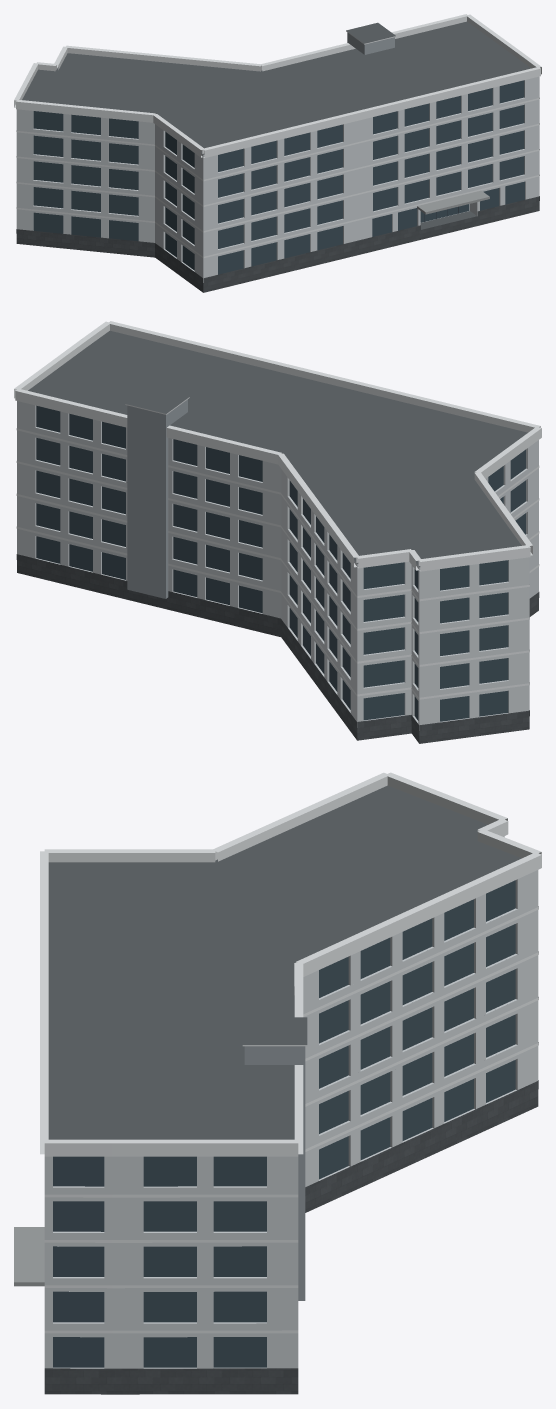
The picture shows the model from 3 angles, top to bottom: view 1: azimuth 30°, elevation 25°; view 2: azimuth 150°, elevation 25°; view 3: azimuth 270°, elevation 25°; orthographic projection. The views are drawn at different scales.
Parts seen in each view (by area): view 1: kraftonSoc__wall, kraftonSoc__glass, kraftonSoc__roof, kraftonSoc__trim, kraftonSoc__base, kraftonSoc__canopy, kraftonSoc__wall2; view 2: kraftonSoc__roof, kraftonSoc__wall, kraftonSoc__glass, kraftonSoc__trim, kraftonSoc__base, kraftonSoc__wall2; view 3: kraftonSoc__roof, kraftonSoc__wall, kraftonSoc__glass, kraftonSoc__trim, kraftonSoc__base, kraftonSoc__wall2, kraftonSoc__canopy.
Part boxes in pixels (x1=…): kraftonSoc__wall: x1=16, y1=76, x2=539, y2=282; kraftonSoc__glass: x1=33, y1=80, x2=524, y2=274; kraftonSoc__roof: x1=22, y1=21, x2=530, y2=229; kraftonSoc__trim: x1=14, y1=14, x2=541, y2=257; kraftonSoc__base: x1=16, y1=196, x2=539, y2=292; kraftonSoc__canopy: x1=417, y1=190, x2=489, y2=214; kraftonSoc__wall2: x1=347, y1=32, x2=394, y2=54; kraftonSoc__roof: x1=28, y1=330, x2=527, y2=567; kraftonSoc__wall: x1=17, y1=401, x2=538, y2=730; kraftonSoc__glass: x1=36, y1=405, x2=525, y2=721; kraftonSoc__trim: x1=14, y1=321, x2=541, y2=699; kraftonSoc__base: x1=16, y1=554, x2=539, y2=743; kraftonSoc__wall2: x1=127, y1=399, x2=187, y2=598; kraftonSoc__roof: x1=48, y1=785, x2=521, y2=1139; kraftonSoc__wall: x1=44, y1=836, x2=538, y2=1368; kraftonSoc__glass: x1=53, y1=880, x2=515, y2=1367; kraftonSoc__trim: x1=40, y1=772, x2=541, y2=1333; kraftonSoc__base: x1=44, y1=1080, x2=538, y2=1394; kraftonSoc__wall2: x1=244, y1=1046, x2=305, y2=1300; kraftonSoc__canopy: x1=14, y1=1227, x2=44, y2=1286.
Bounding box in the file's own units: 68.49 × 23.6 × 41.2.
9 materials, 1 textured.
